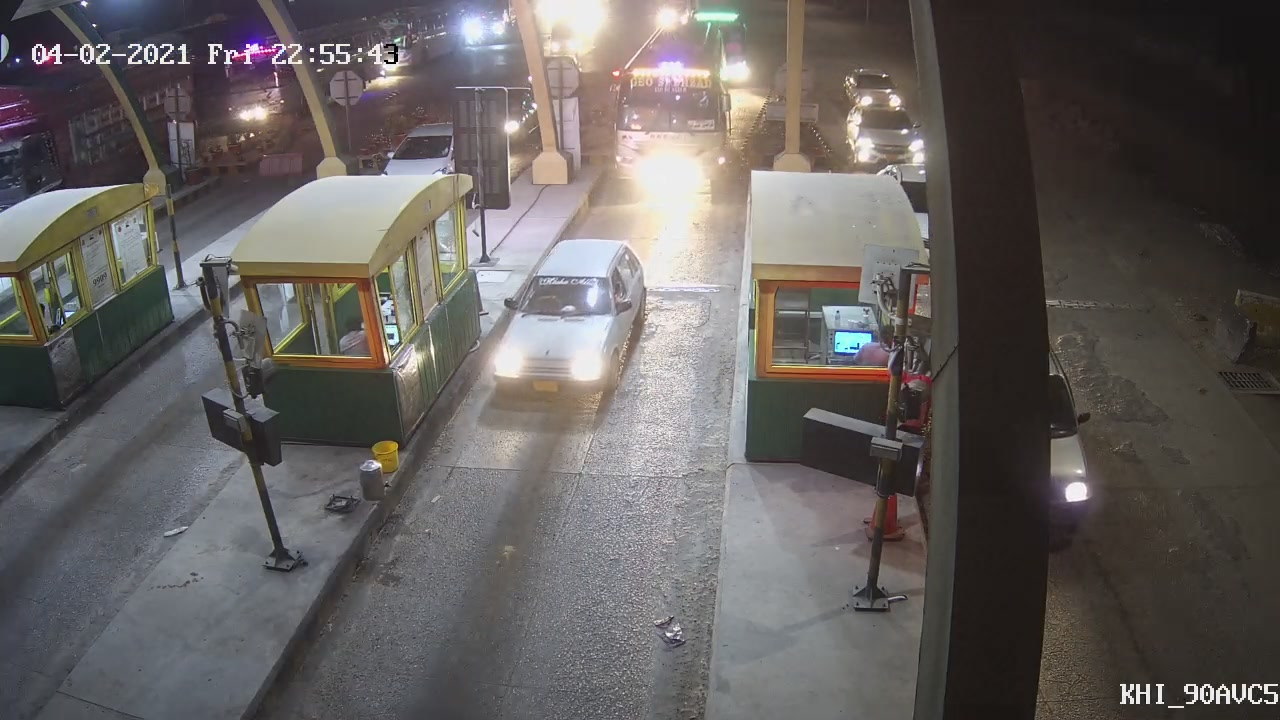F1: (490, 238, 651, 398)
